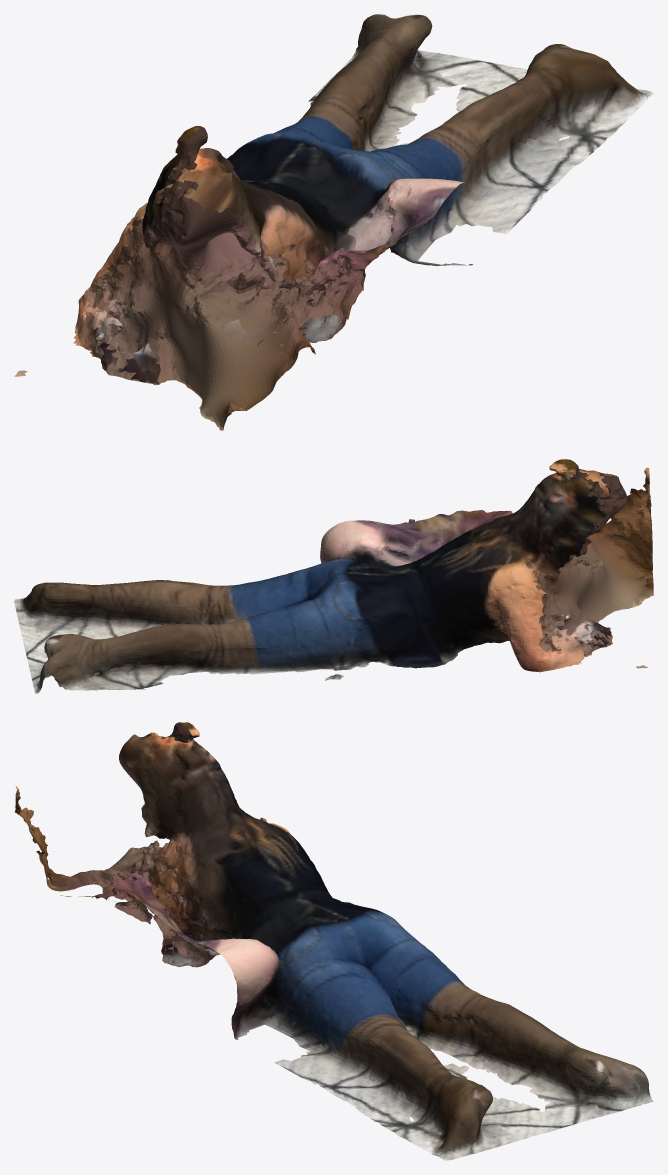
3 views of the same model, one above another, from view 1: azimuth 30°, elevation 25°; view 2: azimuth 150°, elevation 25°; view 3: azimuth 270°, elevation 25° (orthographic). The views are drawn at different scales.
Size of the model in its own units: 1.74 by 0.5082 by 1.53.
Materials: 1 (1 with a texture image).
